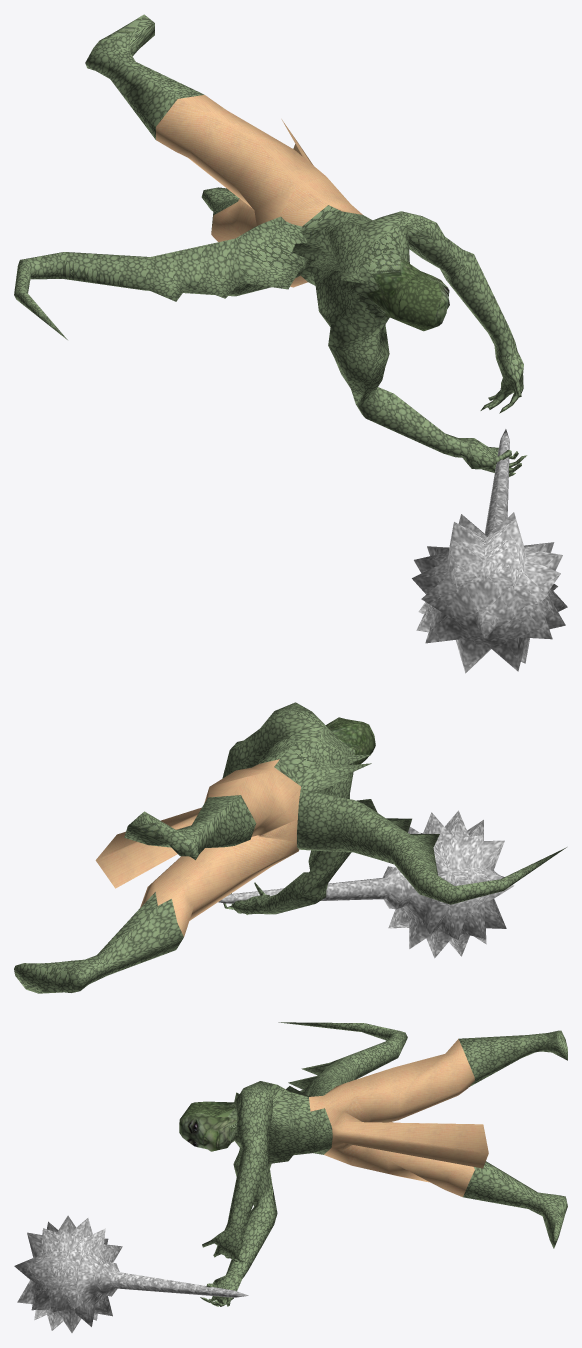
Rendered from makardhwaja_000217.obj.
The picture shows the model from 3 angles, top to bottom: view 1: azimuth 30°, elevation 25°; view 2: azimuth 150°, elevation 25°; view 3: azimuth 270°, elevation 25°; orthographic projection. The views are drawn at different scales.
Parts seen in each view (by area): view 1: hanuman_Cube.000, mace_Cube.008; view 2: hanuman_Cube.000, mace_Cube.008; view 3: hanuman_Cube.000, mace_Cube.008.
Boxes of the visible parts, x1,y1,x2,y2 form: hanuman_Cube.000: (14, 14, 527, 476); mace_Cube.008: (412, 429, 567, 673); hanuman_Cube.000: (14, 702, 566, 993); mace_Cube.008: (218, 810, 513, 958); hanuman_Cube.000: (179, 1022, 567, 1306); mace_Cube.008: (14, 1215, 248, 1332).
Size of the model in its own units: 2.78 by 2.55 by 4.42.
